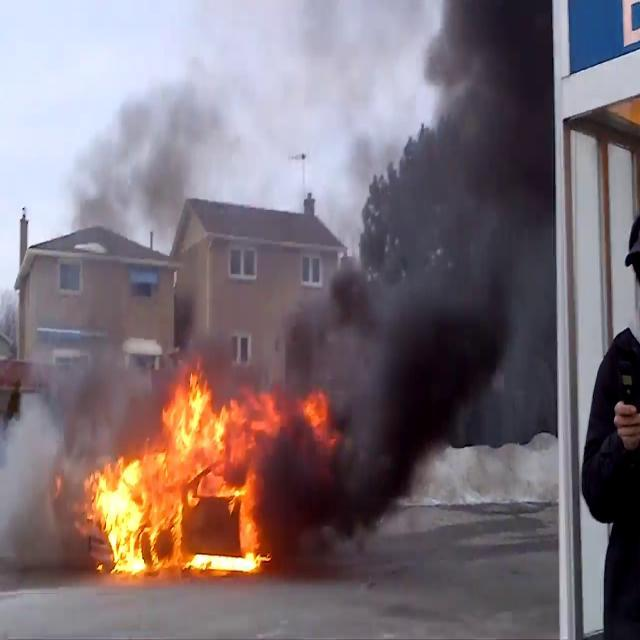Fire: (78, 368, 282, 580), (294, 386, 334, 440)
Smoke: (268, 0, 556, 572), (11, 48, 248, 426), (0, 374, 93, 580)
